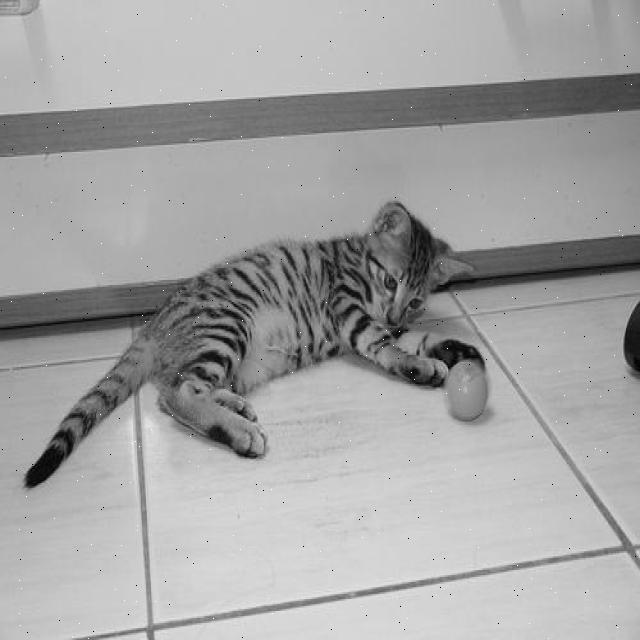ping-pong-ball: (444, 362, 490, 424)
